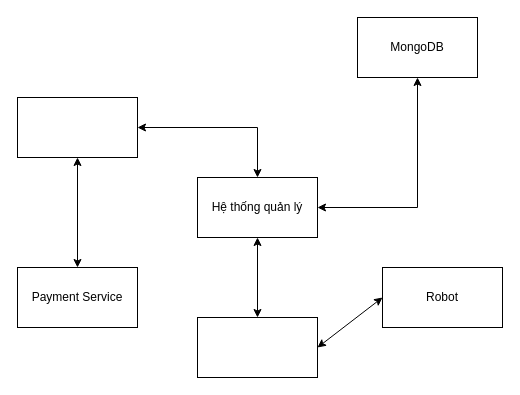
Image size: 520x395. Some labels were removed from this diagram. The shapes that lost their labels are listed below. From the top down, each one's centre as x and y in pixels, then its label:
the point at 77,127: Maui App
the point at 257,347: Communication Service
